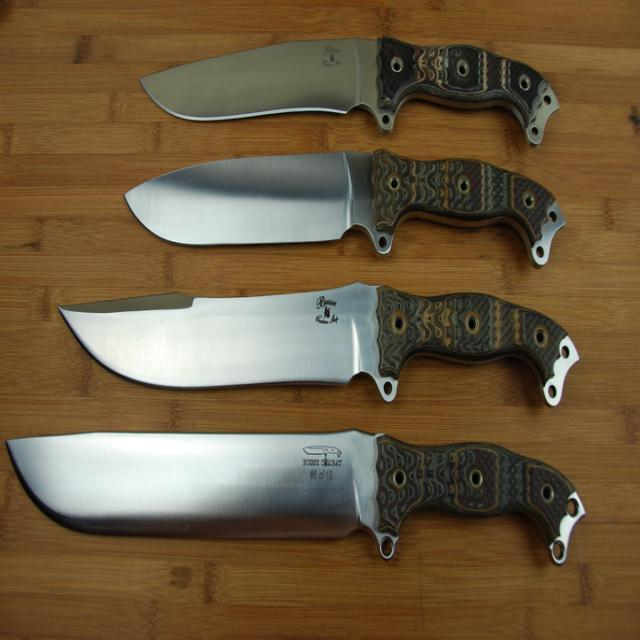Knife: (8, 430, 585, 564), (60, 284, 579, 405), (125, 150, 565, 265), (141, 38, 559, 144)
